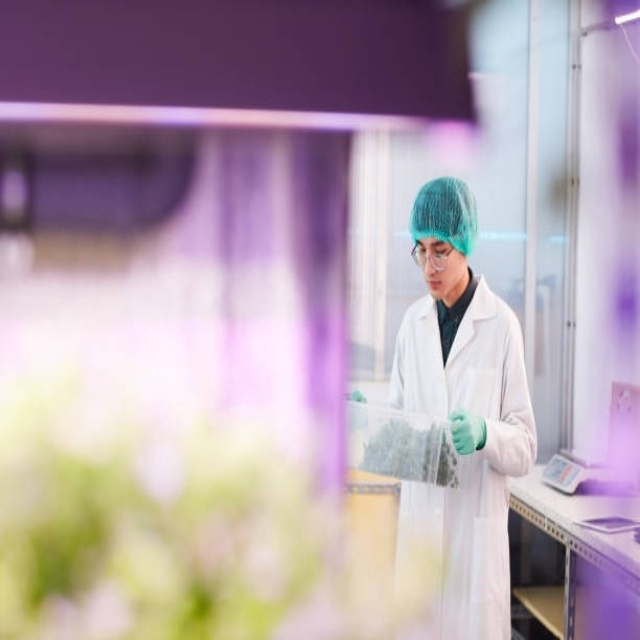Gafas: (412, 244, 456, 273)
Guantes: (448, 406, 487, 458)
Sin_mascara: (418, 270, 448, 296)
